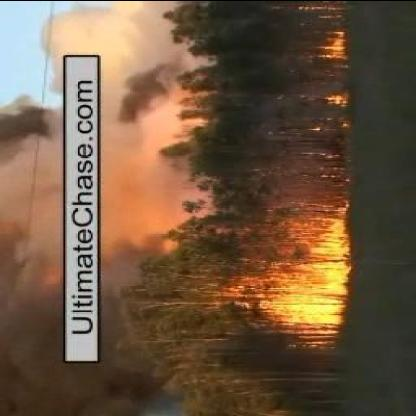-: (1, 93, 59, 374), (101, 26, 161, 257)
foggia-v2-map80-epoch100 - v1 4323: (277, 266, 345, 326), (325, 36, 346, 58)
